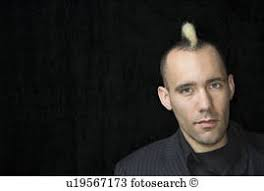white_male: (148, 49, 238, 150)
